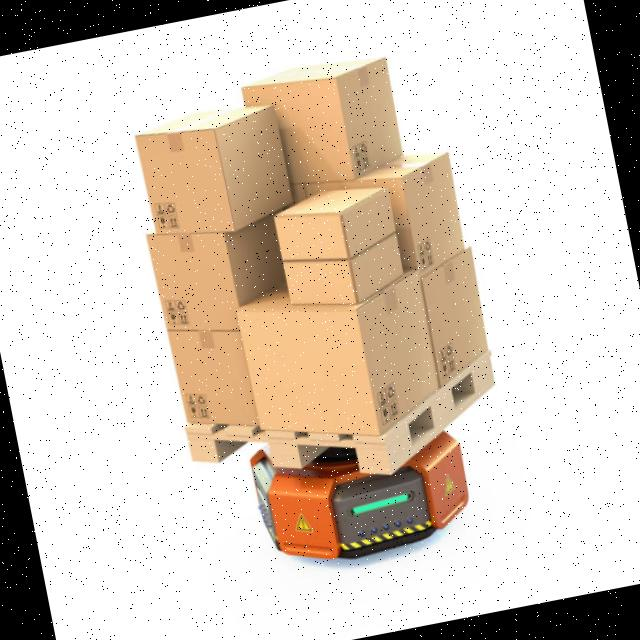Wooden-Pallets: (189, 356, 493, 476)
